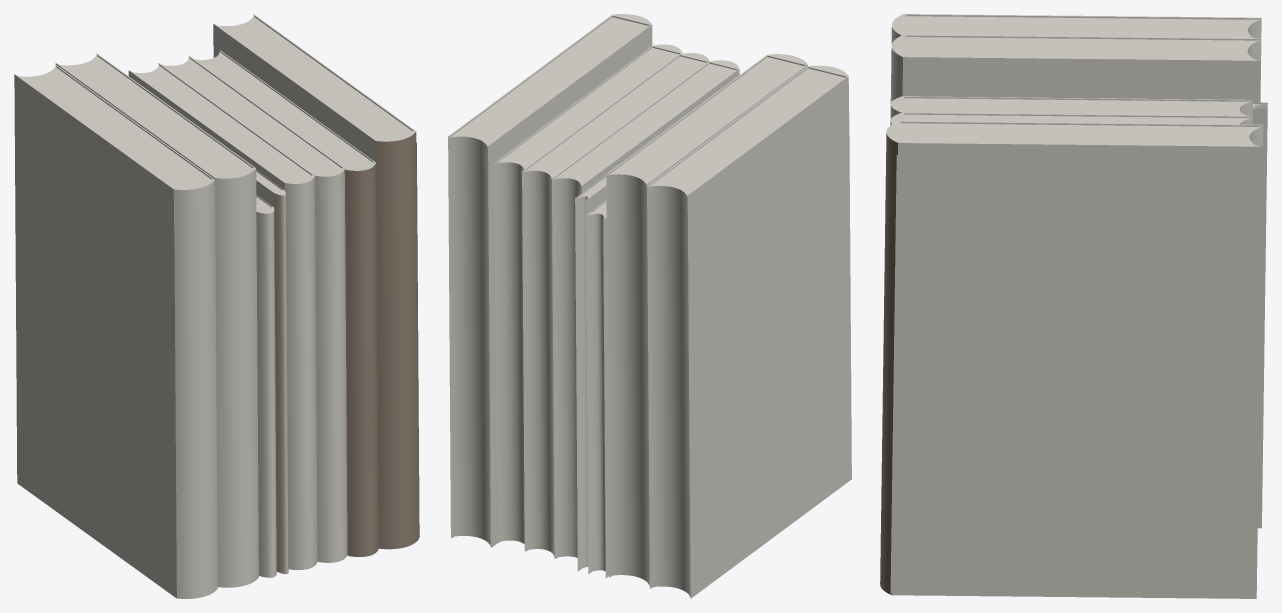
Rendered from books.fbx.
3 renders of one model, left to right at view 1: azimuth 30°, elevation 25°; view 2: azimuth 150°, elevation 25°; view 3: azimuth 270°, elevation 25°, orthographic. The views are drawn at different scales.
Parts seen in each view (by area): view 1: Books1; view 2: Books1; view 3: Books1.
Boxes of the visible parts, x1,y1,x2,y2 form: Books1: (14,14,419,598); Books1: (448,14,851,598); Books1: (880,14,1267,598).
Size of the model in its own units: 1.5 by 2.45 by 1.88.
